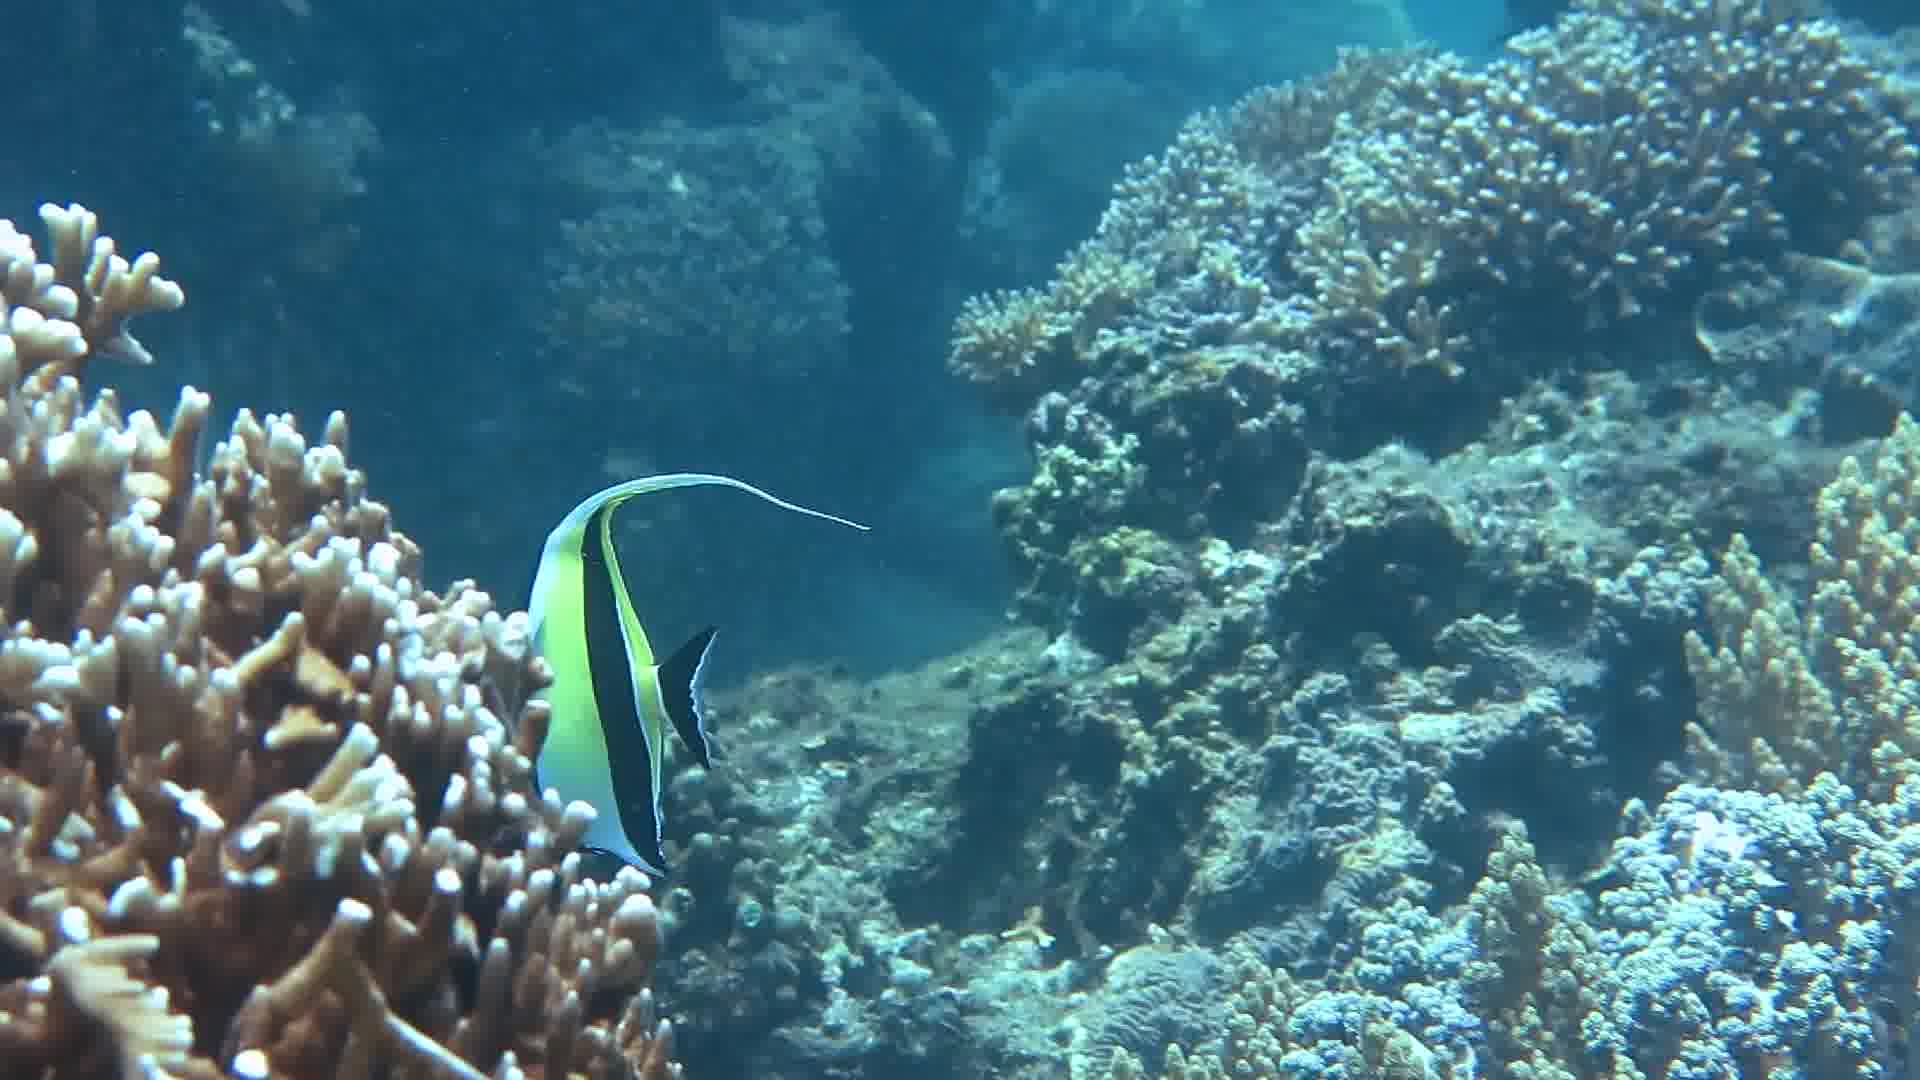Zanclus cornutus: (484, 462, 825, 891)
